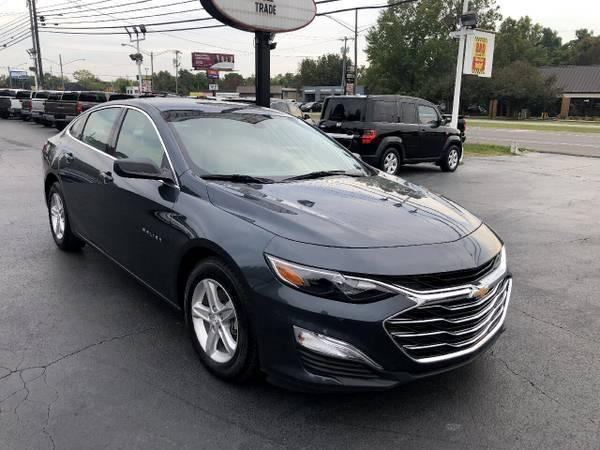Front_Bumper: (253, 277, 421, 384)
Front_Fender: (165, 171, 275, 308)
Front_Right_Door: (97, 156, 177, 300)
Front_Right_Window: (108, 109, 179, 188)
Front_Windshield: (159, 109, 372, 180)
Grille: (351, 248, 513, 371)
Hood: (209, 173, 505, 275)
Rear_Fender: (43, 135, 61, 181)
Rear_Right_Door: (53, 137, 107, 254)
Rear_Right_Window: (64, 105, 126, 154)
Right_Headlight: (266, 251, 403, 304)
Roof: (54, 94, 289, 179)
Wheel: (183, 255, 250, 374), (46, 184, 69, 249)
